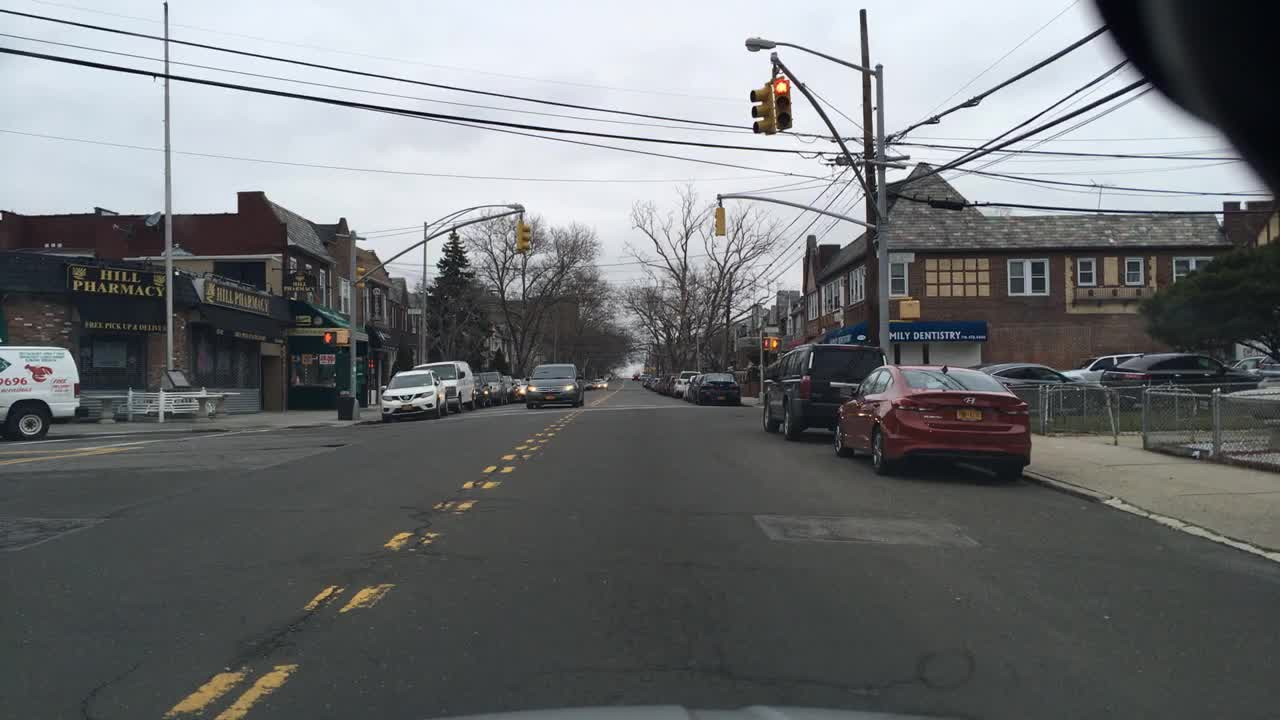car: (833, 364, 1031, 477), (759, 344, 886, 439), (1102, 354, 1260, 393), (410, 359, 475, 413), (381, 369, 448, 421), (523, 362, 587, 409), (968, 359, 1068, 388), (1059, 353, 1137, 381), (691, 370, 742, 406), (1232, 354, 1279, 383), (484, 369, 509, 404), (469, 370, 492, 408), (674, 369, 703, 399), (501, 375, 519, 401), (683, 379, 700, 401), (663, 374, 678, 394), (680, 374, 693, 397), (656, 372, 671, 391), (516, 379, 528, 399), (647, 375, 659, 391), (595, 379, 609, 391), (582, 377, 593, 391), (641, 374, 651, 387)
traffic light: (773, 77, 793, 131), (749, 86, 769, 131), (513, 219, 530, 251), (320, 327, 347, 346), (899, 299, 918, 322), (712, 206, 725, 234), (354, 266, 366, 287), (768, 336, 779, 351), (759, 334, 771, 347)
truck: (0, 344, 82, 447)
